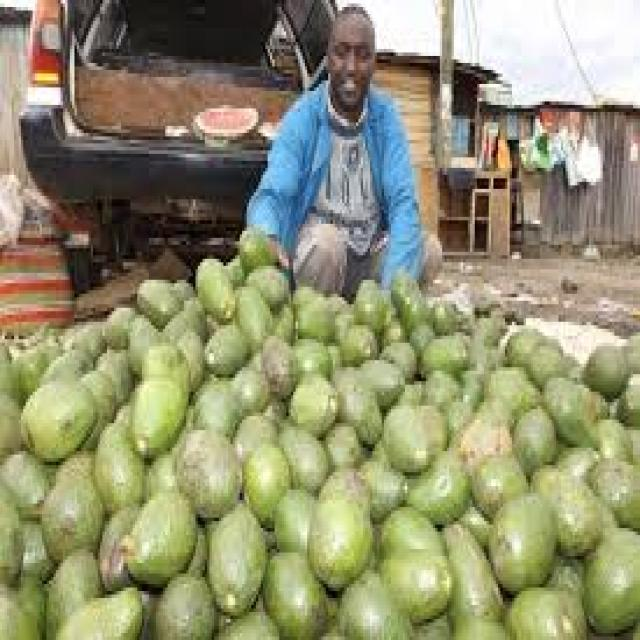organic waste: (310, 462, 372, 588), (119, 490, 198, 588), (40, 441, 102, 556), (205, 500, 268, 612), (16, 374, 93, 462), (486, 482, 552, 580), (440, 514, 500, 619), (526, 458, 596, 546), (377, 546, 454, 622), (582, 532, 638, 633), (121, 500, 193, 577), (332, 566, 410, 636), (177, 434, 244, 514), (42, 542, 100, 633), (263, 546, 326, 626), (400, 451, 470, 521), (56, 580, 142, 636), (380, 392, 442, 465), (149, 570, 214, 637), (93, 423, 144, 507), (128, 367, 184, 441), (505, 584, 582, 637), (98, 500, 146, 581), (377, 504, 445, 560), (244, 444, 291, 525), (272, 420, 324, 490), (542, 374, 594, 441), (512, 402, 556, 479), (332, 360, 374, 437), (591, 458, 638, 525), (361, 448, 405, 518), (0, 574, 47, 636), (484, 360, 542, 409), (468, 451, 526, 500), (0, 448, 42, 510), (580, 342, 626, 398), (140, 342, 190, 392), (233, 412, 277, 468), (289, 374, 335, 427), (456, 412, 514, 454), (422, 364, 479, 406), (189, 385, 235, 437), (361, 356, 405, 406), (193, 102, 256, 136), (0, 486, 21, 588), (258, 328, 291, 392), (156, 311, 191, 371), (140, 273, 182, 322), (593, 412, 633, 462), (414, 328, 468, 364), (196, 255, 228, 315), (351, 273, 384, 329), (244, 262, 288, 304), (200, 325, 244, 367), (291, 287, 330, 332), (144, 451, 182, 497), (526, 339, 570, 378), (233, 227, 277, 266), (100, 350, 130, 406), (226, 371, 270, 409), (221, 608, 279, 636), (291, 328, 328, 371), (470, 315, 496, 374), (382, 336, 416, 381), (81, 367, 114, 413), (177, 328, 205, 378), (235, 290, 268, 332), (335, 322, 375, 356), (44, 342, 91, 370), (498, 328, 542, 356), (0, 395, 19, 458), (130, 318, 152, 371), (105, 301, 130, 346), (16, 343, 40, 388), (428, 298, 459, 332), (0, 342, 16, 402), (68, 322, 104, 346), (616, 381, 638, 420), (405, 287, 424, 332), (319, 294, 349, 322), (554, 553, 579, 584), (389, 259, 407, 301), (221, 252, 244, 283), (172, 276, 196, 301), (624, 332, 638, 371), (472, 297, 496, 315), (561, 276, 579, 294), (258, 119, 275, 136)
